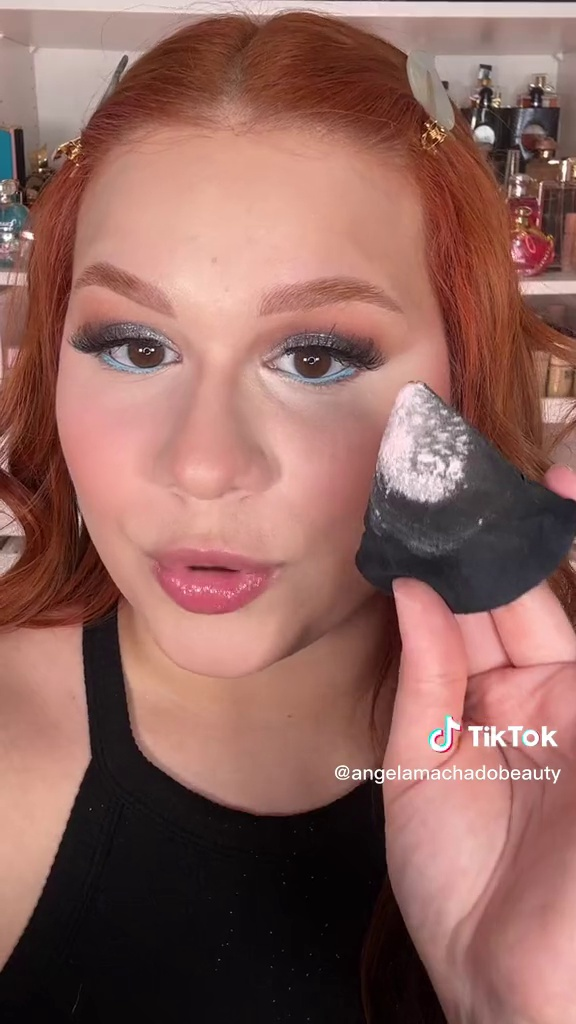train' :'yolo_data/train/images',: (346, 375, 575, 621)
